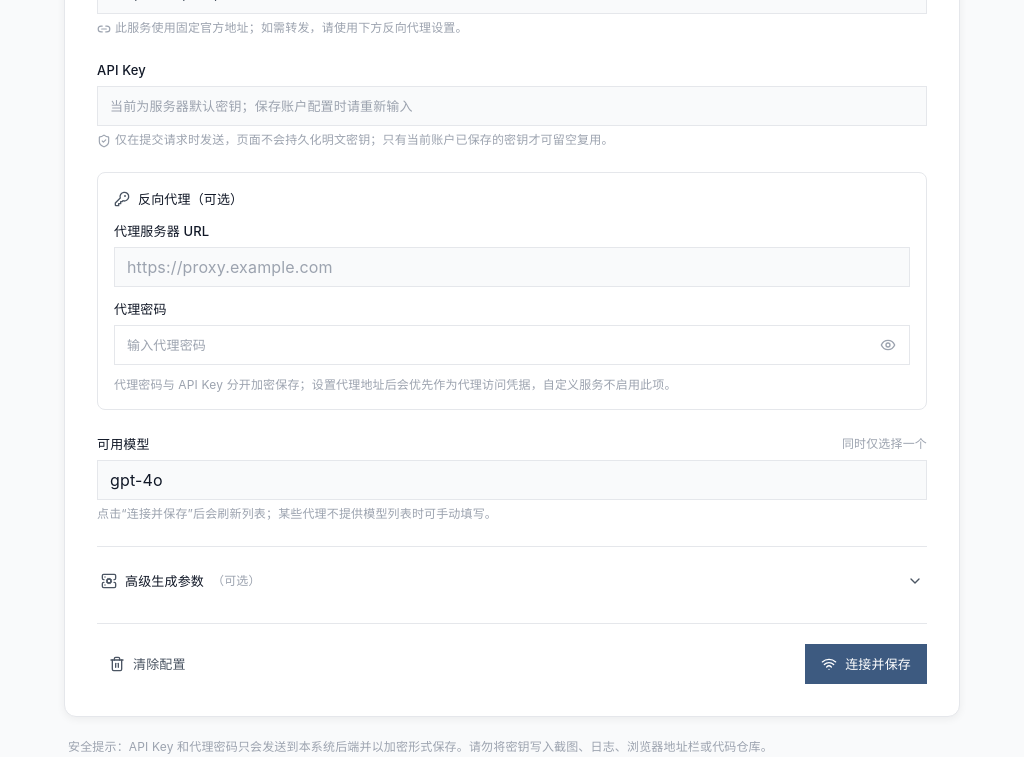
Test: AiConfig › uses one connection command and requires a key before creating an account configuration
(page scrolled)
Click the button "连接并保存". click: (866, 664)
box: [805,644,927,684]
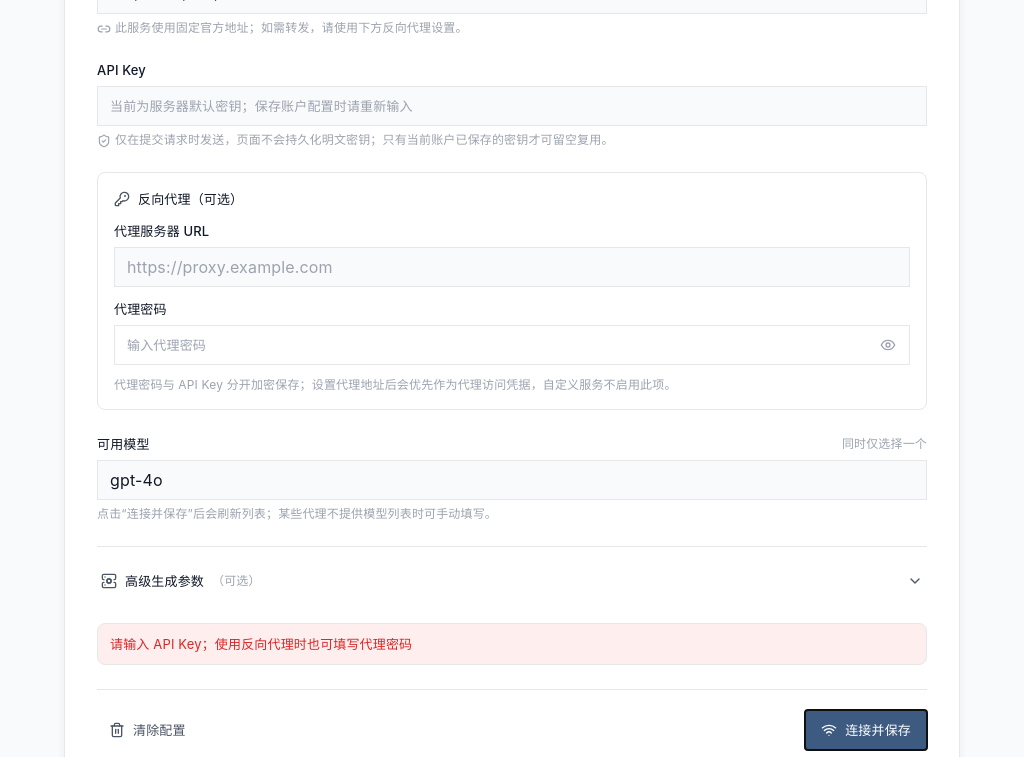
Check: the message shows "请输入 API Key", box [110,636,412,652]
